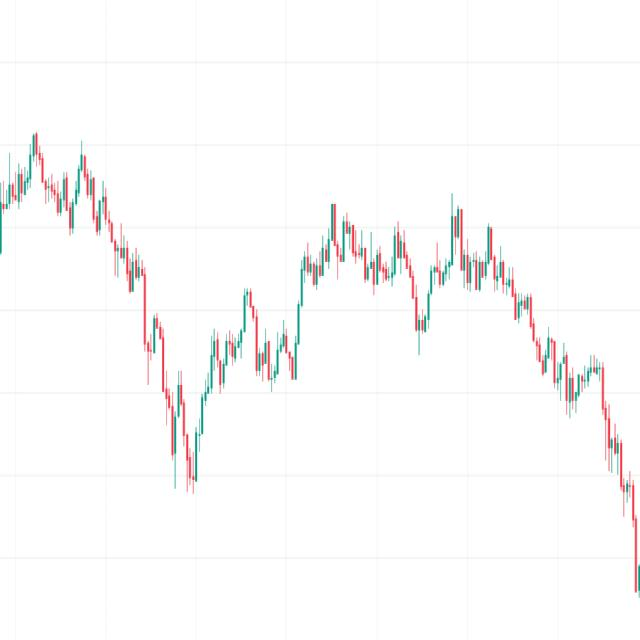Triple-Bottom: (248, 321, 310, 396)
